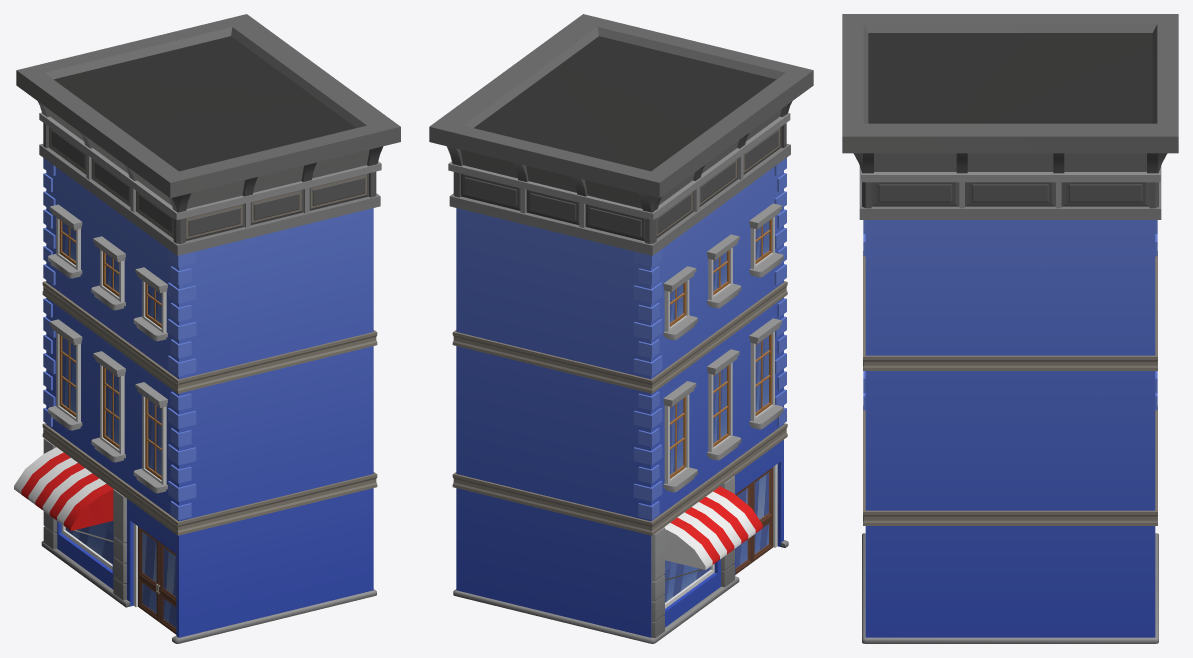
The model's file is Building_8_2_A.fbx.
The picture shows the model from 3 angles, left to right: view 1: azimuth 30°, elevation 25°; view 2: azimuth 150°, elevation 25°; view 3: azimuth 270°, elevation 25°; orthographic projection. The views are drawn at different scales.
Parts seen in each view (by area): view 1: Building 8_2_A; view 2: Building 8_2_A; view 3: Building 8_2_A.
Boxes of the visible parts, <box> form: Building 8_2_A: <box>14,14,400,643</box>; Building 8_2_A: <box>429,14,813,643</box>; Building 8_2_A: <box>842,14,1178,643</box>.
Size of the model in its own units: 720 by 1276 by 755.
